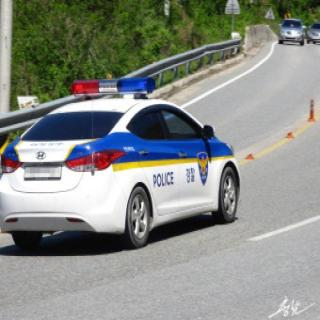Police_car: (0, 76, 240, 247)
